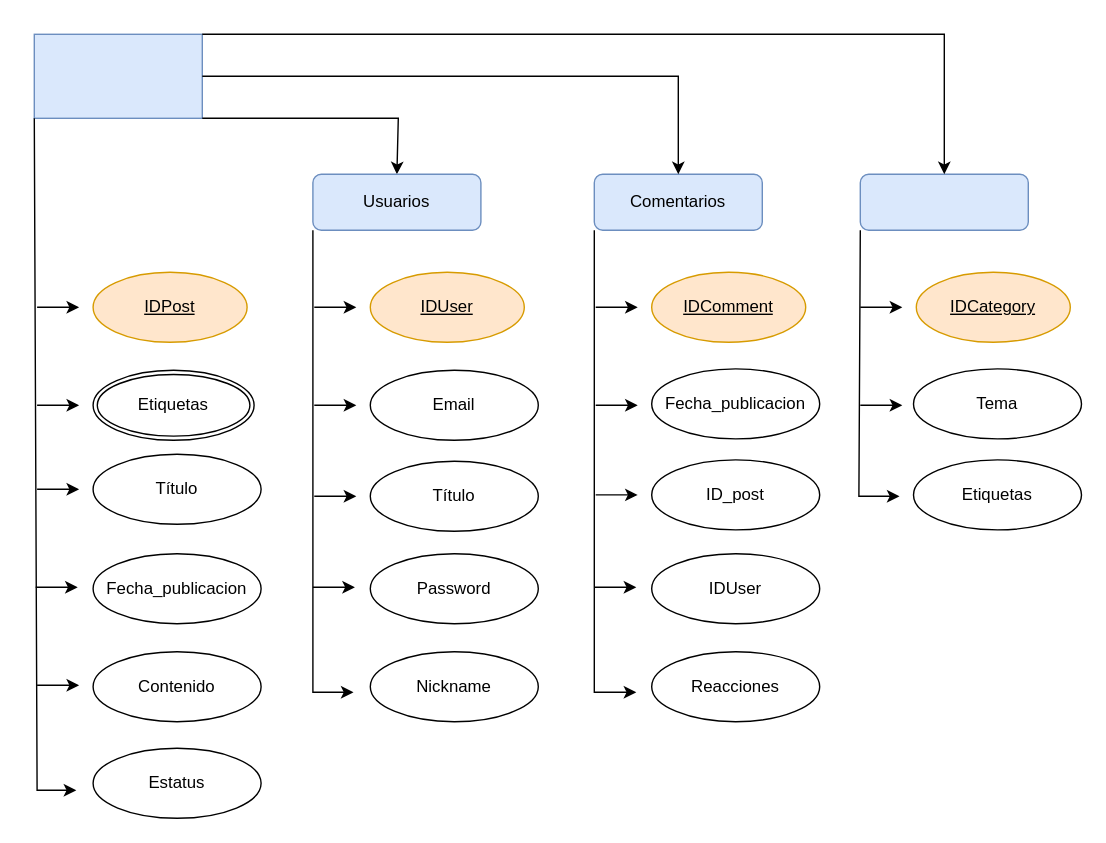
This 1106x843 diagram has some shape labels left out. Each missing label, with the box of its shape:
Categorias: (859, 173, 1028, 230)
Posts: (33, 33, 202, 118)
